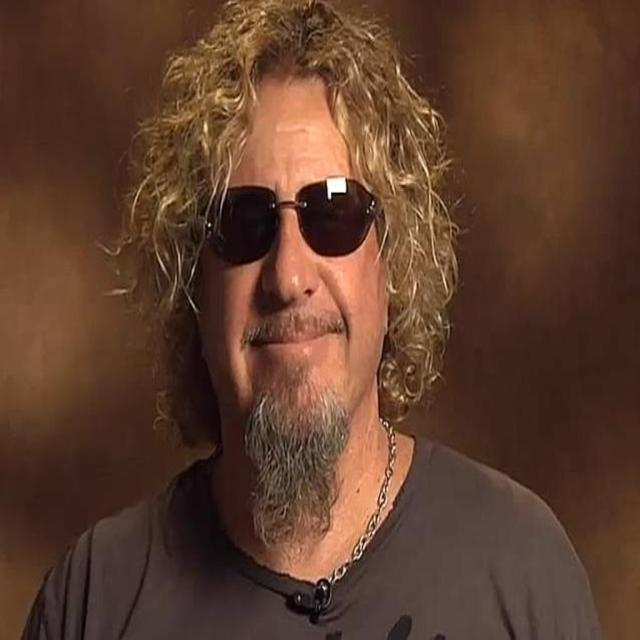Face: (215, 73, 389, 436)
